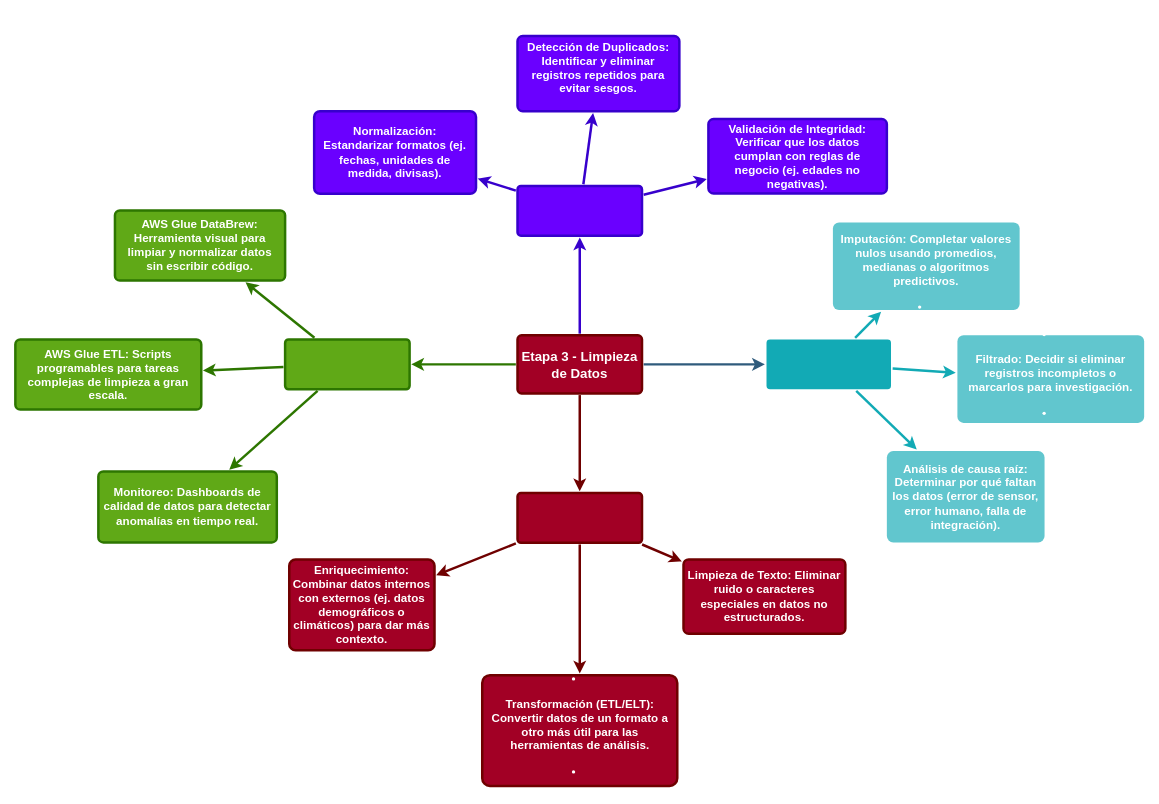
Some shapes in this 1159 by 804 pixel diagram are drawn without their labels. Here are the shapes that lost their labels. From the top down, the centre of each, then its label:
(579,210): Calidad de Datos (Data Quality)
(346,364): Automatización y Herramientas
(828,364): Tratamiento de Datos Faltantes
(579,517): Transformación y Enriquecimiento
